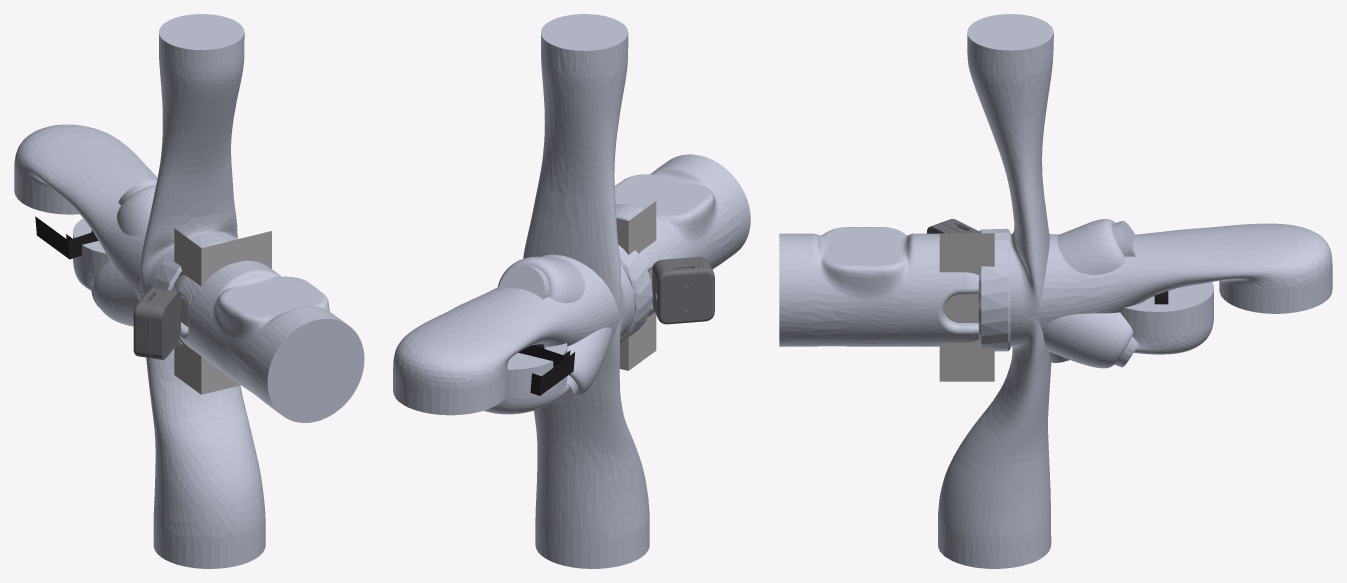
File: arm.glb
The picture shows the model from 3 angles, left to right: view 1: azimuth 30°, elevation 25°; view 2: azimuth 150°, elevation 25°; view 3: azimuth 270°, elevation 25°; orthographic projection. The views are drawn at different scales.
Visible parts, largest first — view 1: b2, b4, b6, b5, b12, b9, b3; view 2: b6, b4, b5, b2, b12, b9, b3; view 3: b2, b4, b5, b6, b3, b9, b12.
Part boxes in pixels (<box>): b2: <box>174,260,364,422</box>; b4: <box>140,249,265,568</box>; b6: <box>140,14,244,295</box>; b5: <box>14,124,168,295</box>; b12: <box>133,228,271,394</box>; b9: <box>35,180,156,326</box>; b3: <box>73,218,237,346</box>; b6: <box>523,14,634,331</box>; b4: <box>534,269,649,568</box>; b5: <box>393,254,634,415</box>; b2: <box>614,154,750,316</box>; b12: <box>616,201,714,370</box>; b9: <box>498,256,612,403</box>; b3: <box>483,245,652,414</box>; b2: <box>779,227,978,346</box>; b4: <box>938,249,1051,568</box>; b5: <box>1010,223,1332,345</box>; b6: <box>967,14,1053,335</box>; b3: <box>978,228,1213,354</box>; b9: <box>1043,219,1168,368</box>; b12: <box>926,219,994,381</box>.
Bounding box in the file's own units: 0.129 × 0.4121 × 0.4028.
